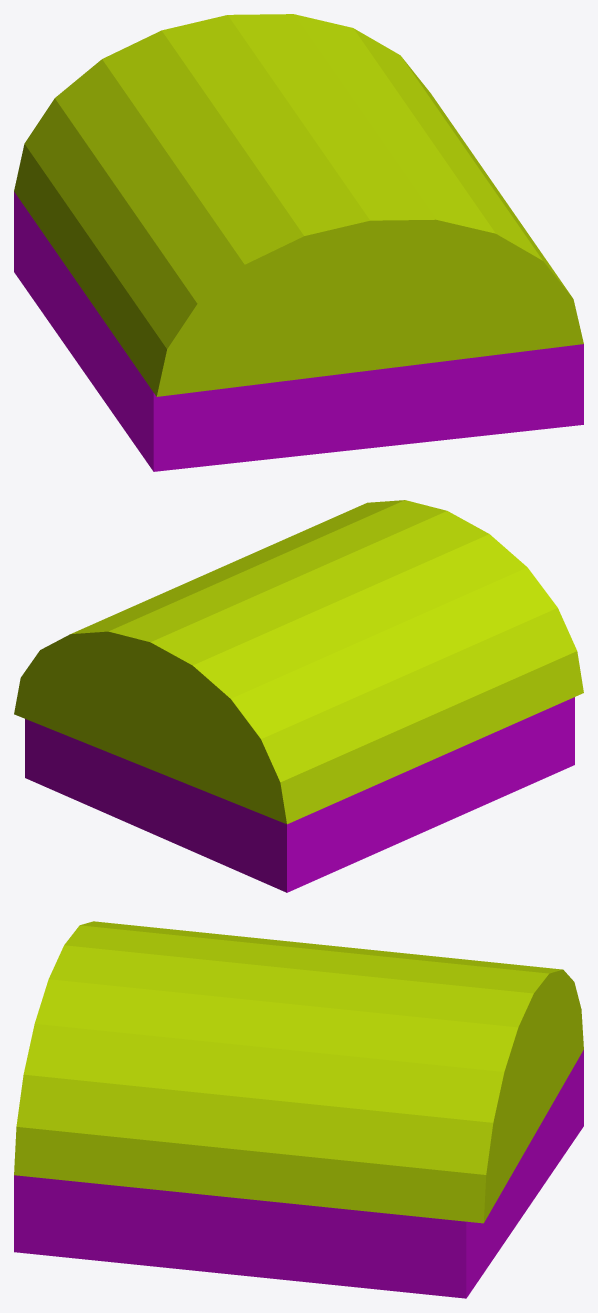
3 renders of one model, top to bottom at view 1: azimuth 30°, elevation 25°; view 2: azimuth 150°, elevation 25°; view 3: azimuth 270°, elevation 25°, orthographic. The views are drawn at different scales.
Visible parts, largest first — view 1: sc_142; view 2: sc_142; view 3: sc_142.
Part boxes in pixels (x1,y1,x2,y2): sc_142: (14,14,583,471); sc_142: (14,500,583,892); sc_142: (14,921,583,1298).
Size of the model in its own units: 12.03 by 5.54 by 13.02.
